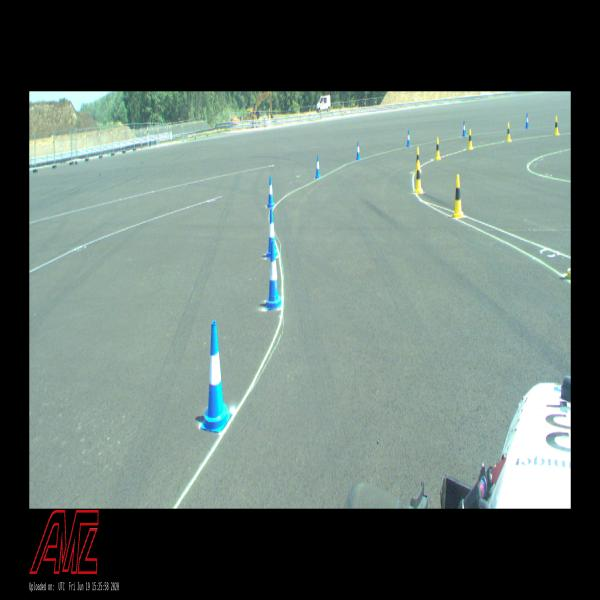blue_cone: (200, 320, 232, 432), (266, 242, 282, 310), (266, 209, 278, 260), (267, 177, 275, 208), (316, 154, 320, 179), (356, 140, 360, 160), (406, 129, 410, 148), (462, 120, 466, 137), (525, 113, 529, 129)
yellow_cone: (454, 173, 464, 218), (414, 158, 422, 195), (415, 146, 421, 174), (435, 136, 441, 161), (554, 115, 560, 136), (468, 128, 473, 150), (506, 122, 511, 141)
